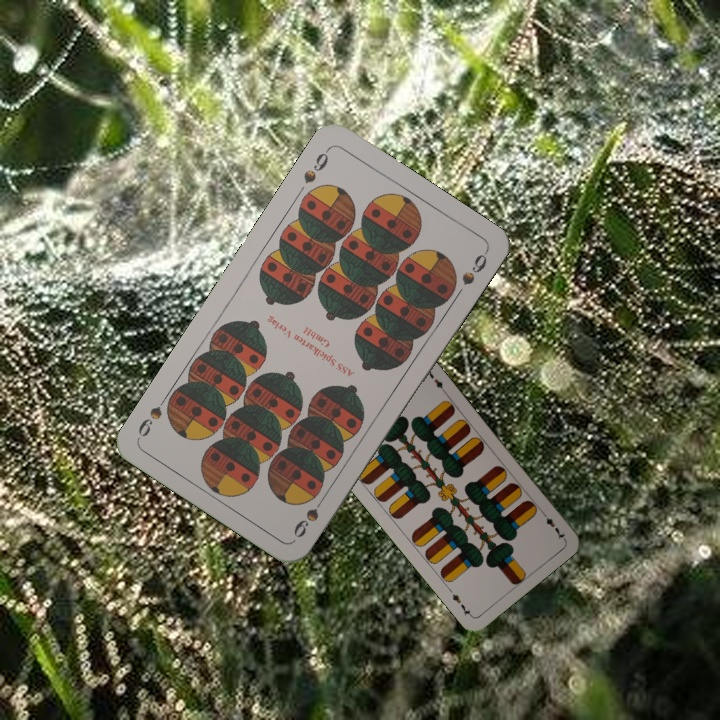E7: (537, 507, 568, 542)
S9: (289, 489, 330, 541), (299, 144, 333, 186)
